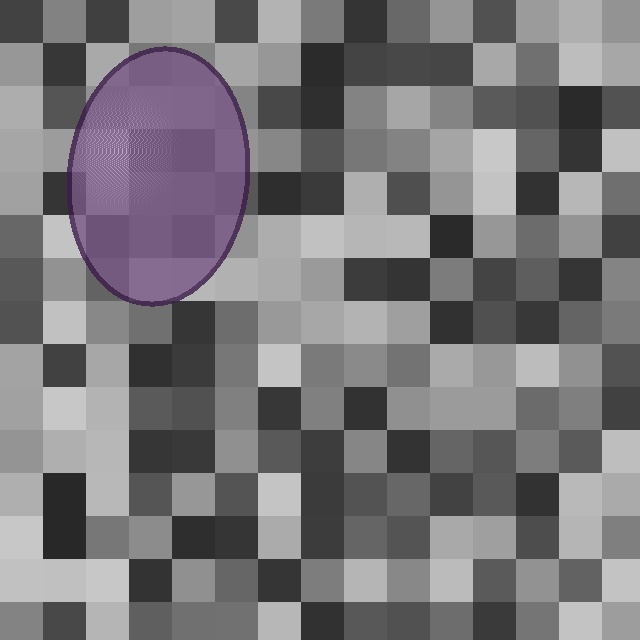lens: (69, 49, 247, 303)
